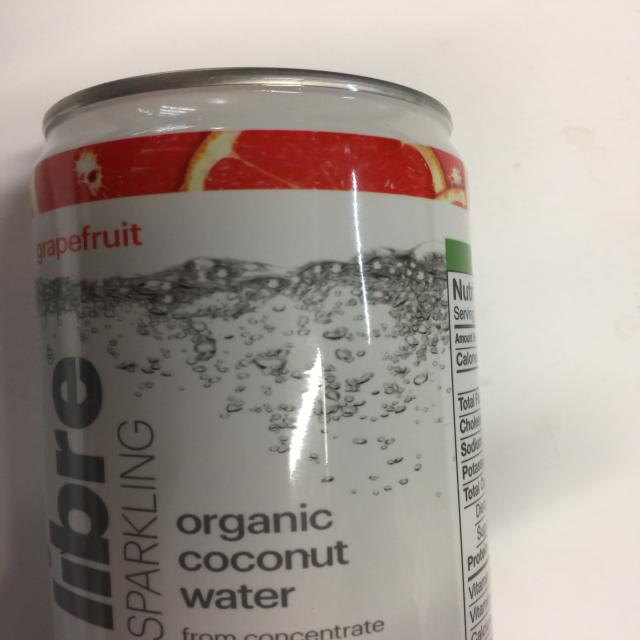Metal: (26, 65, 496, 640)
